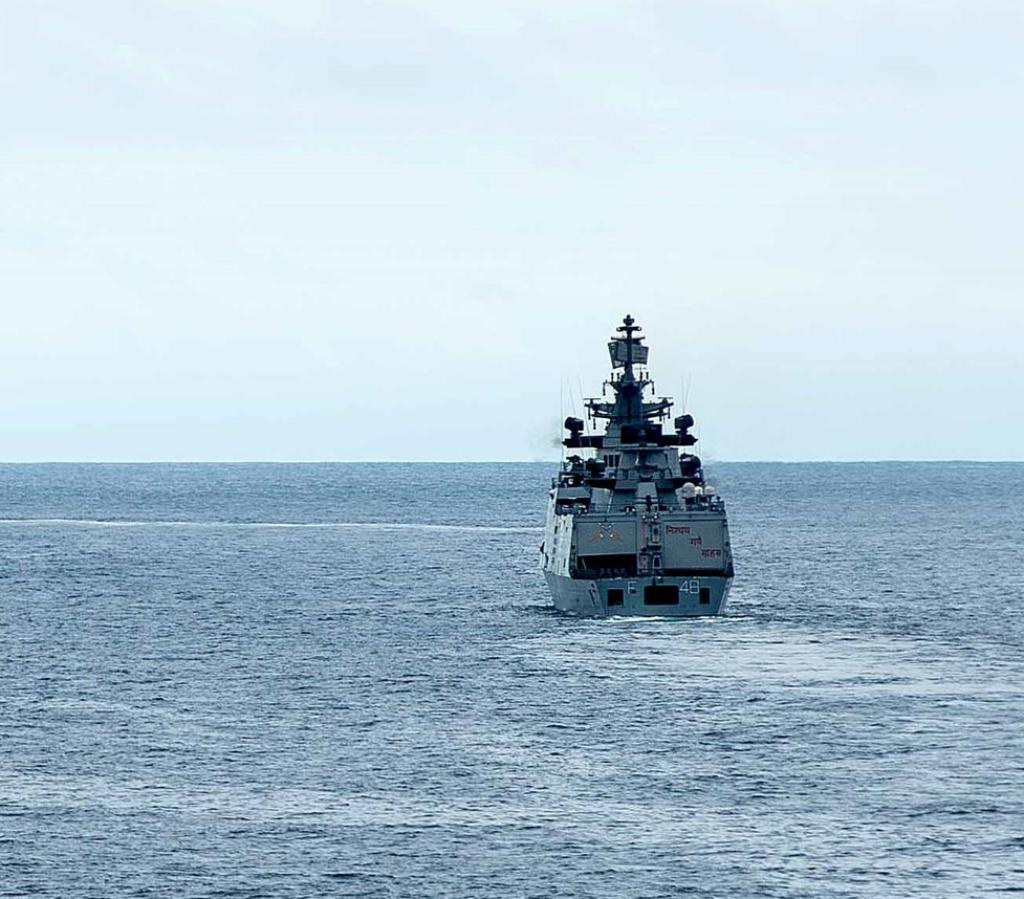Warship: (534, 308, 744, 632)
